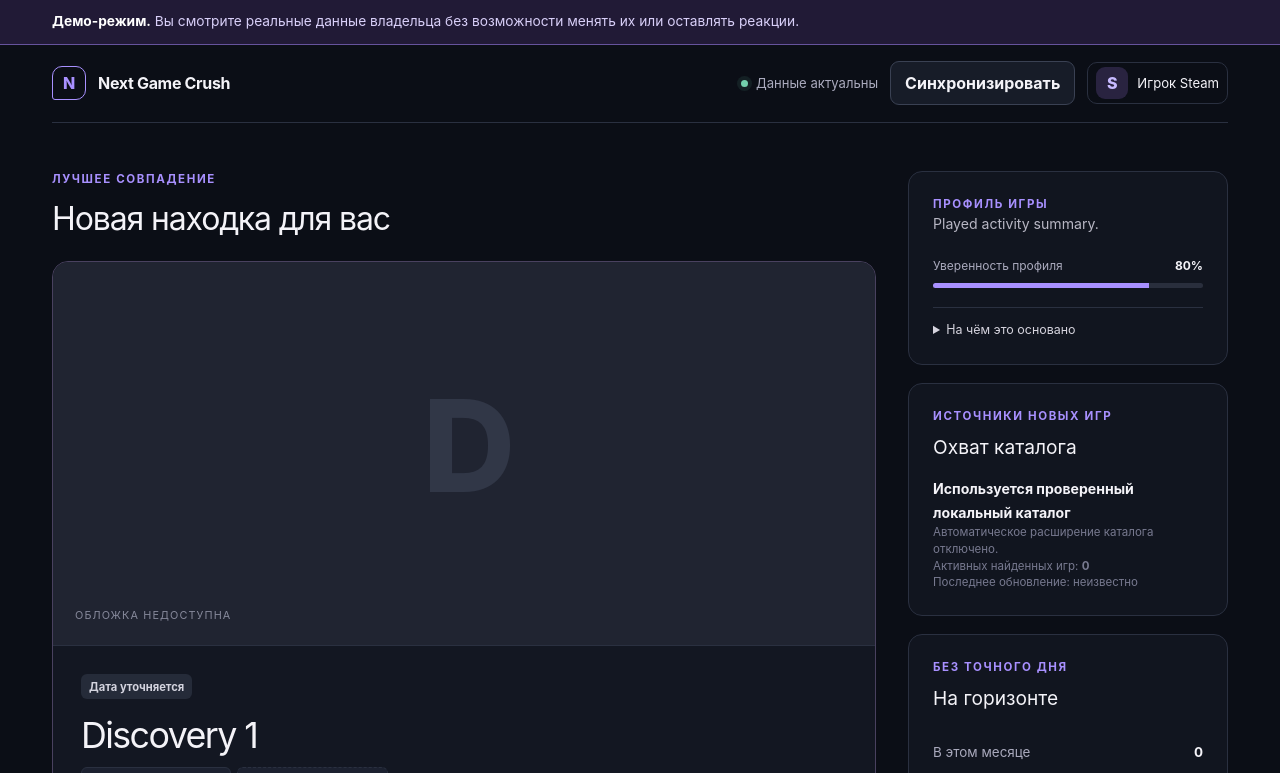
Test: shows demo banner and intercepts visible mutation controls
Expected: the message "Демо-режим" shows "реальные данные владельца", 151,13 -> 799,29
Click the button "Синхронизировать".
click(983, 84)  # box 890,62 -> 1075,106
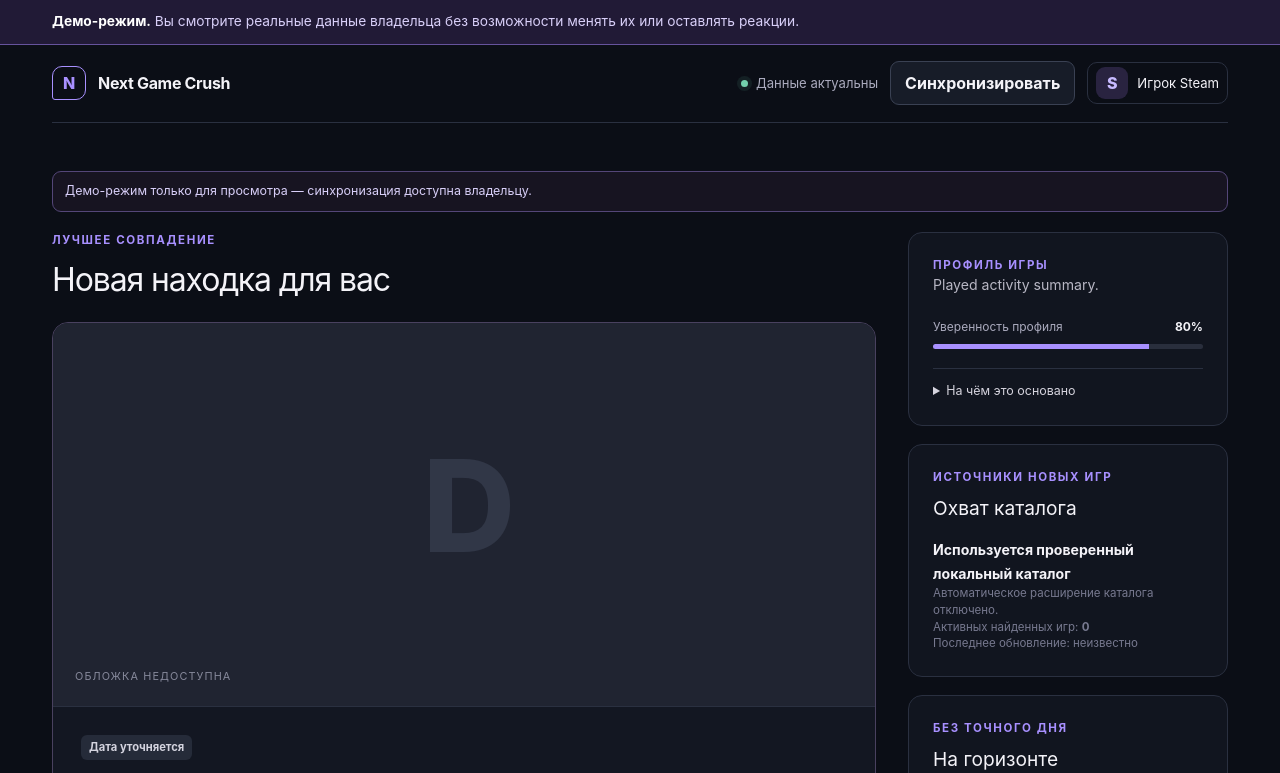
Result: the text "Демо-режим только для просмотра — синхронизация доступна владельцу." is shown at 52,171 -> 1228,212
